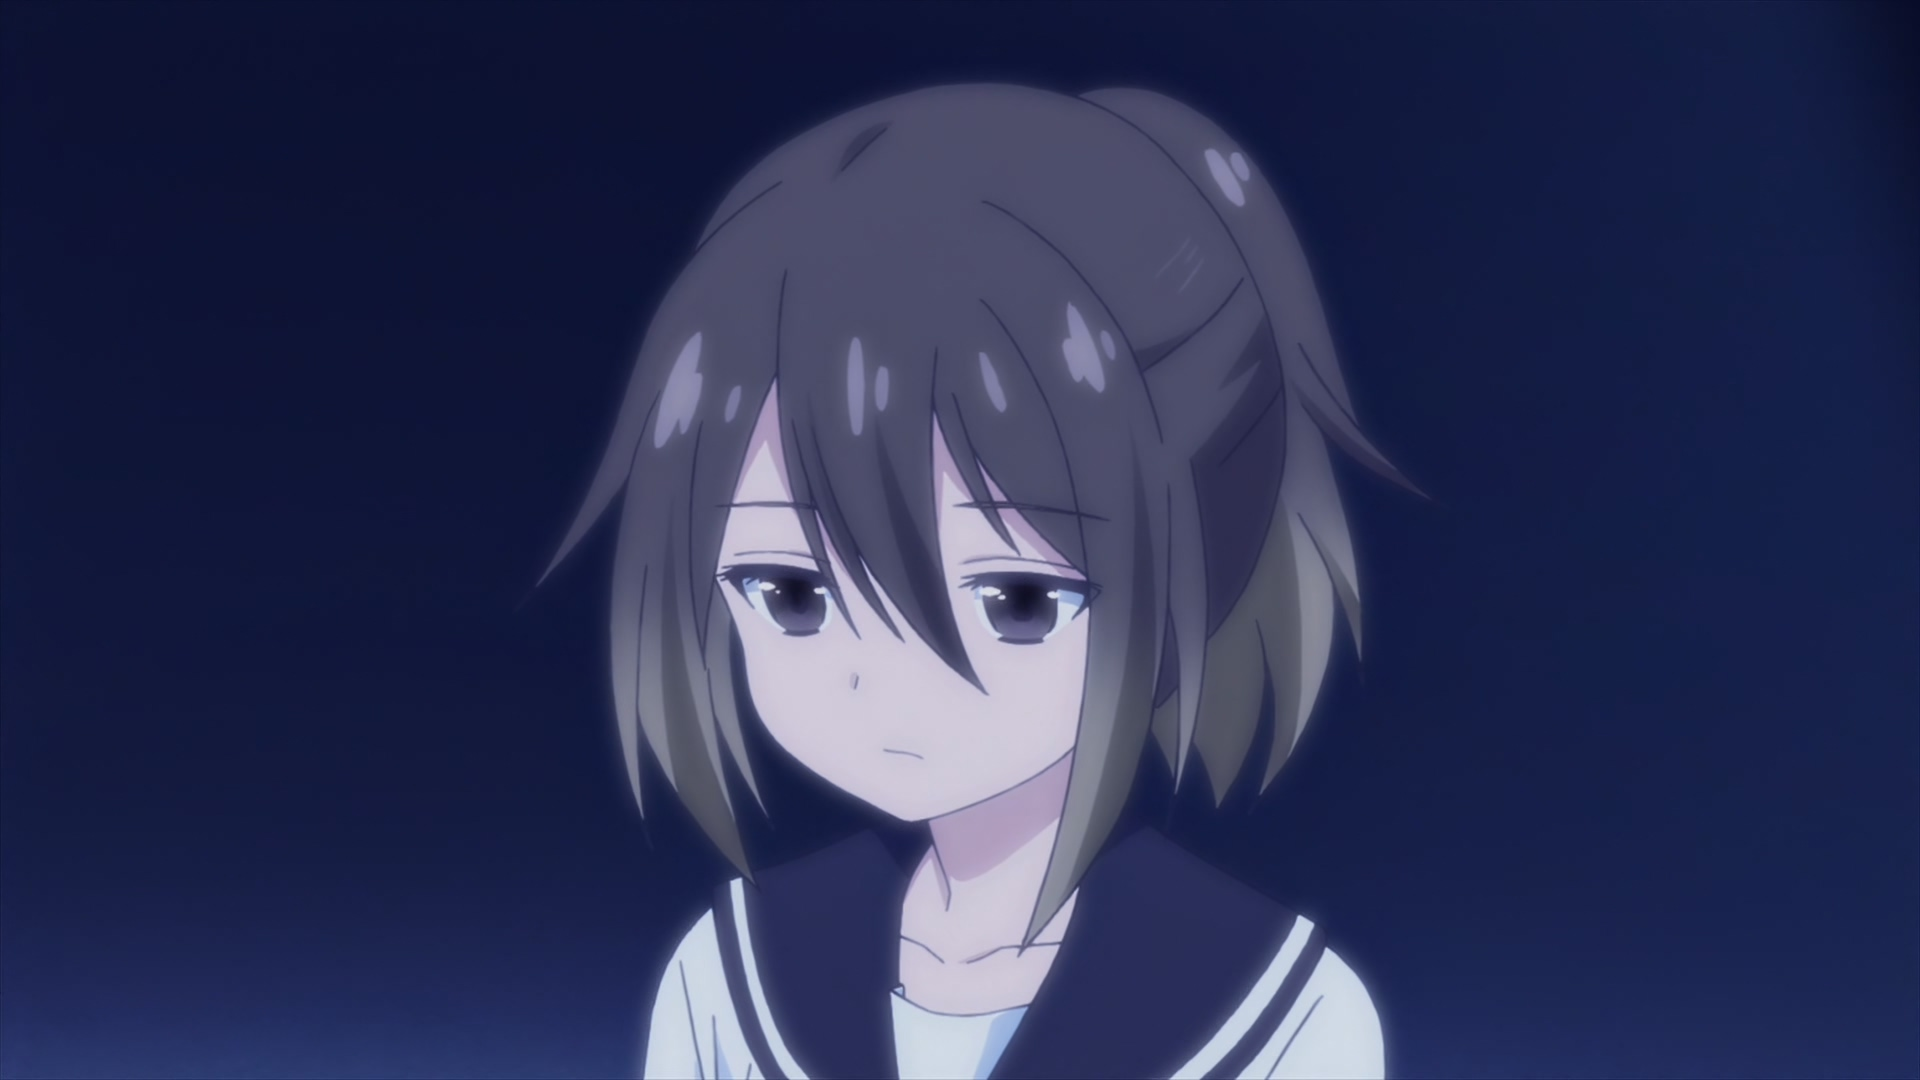其他: (535, 82, 1431, 1080)
